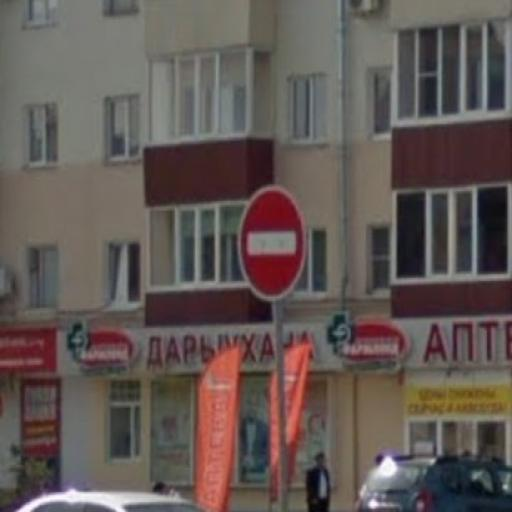traffic_sign: (237, 185, 312, 305)
